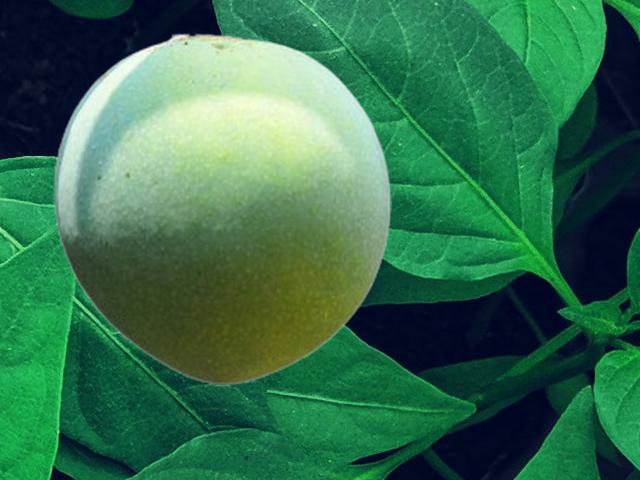green_mango: (53, 31, 390, 384)
